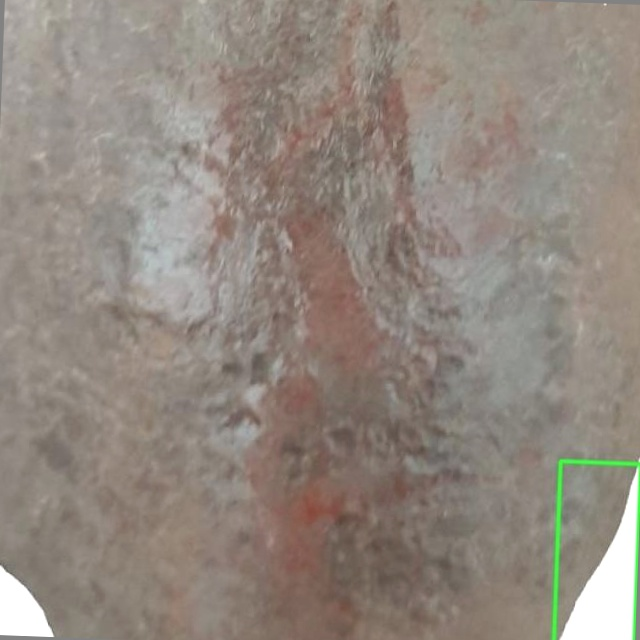Contact Dermatitis: (553, 461, 639, 639)
